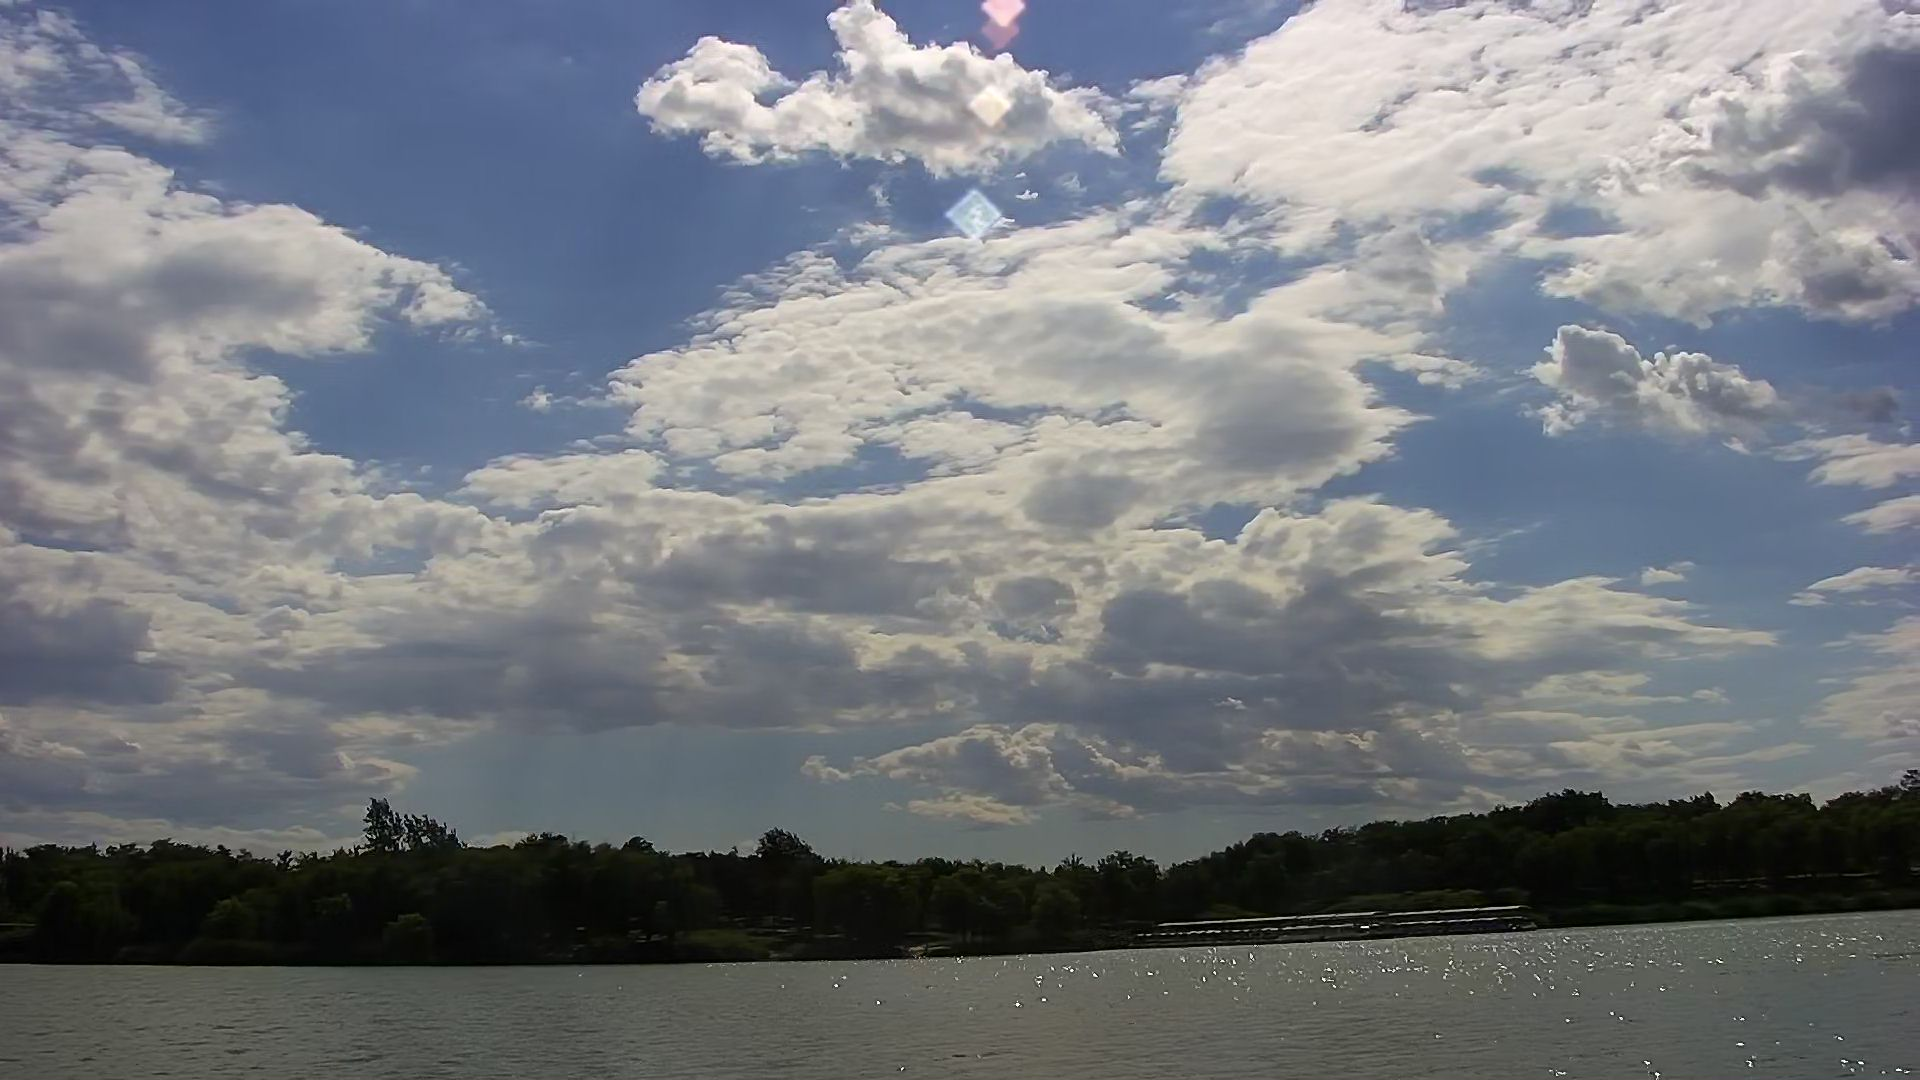harbor: (1122, 889, 1560, 957)
